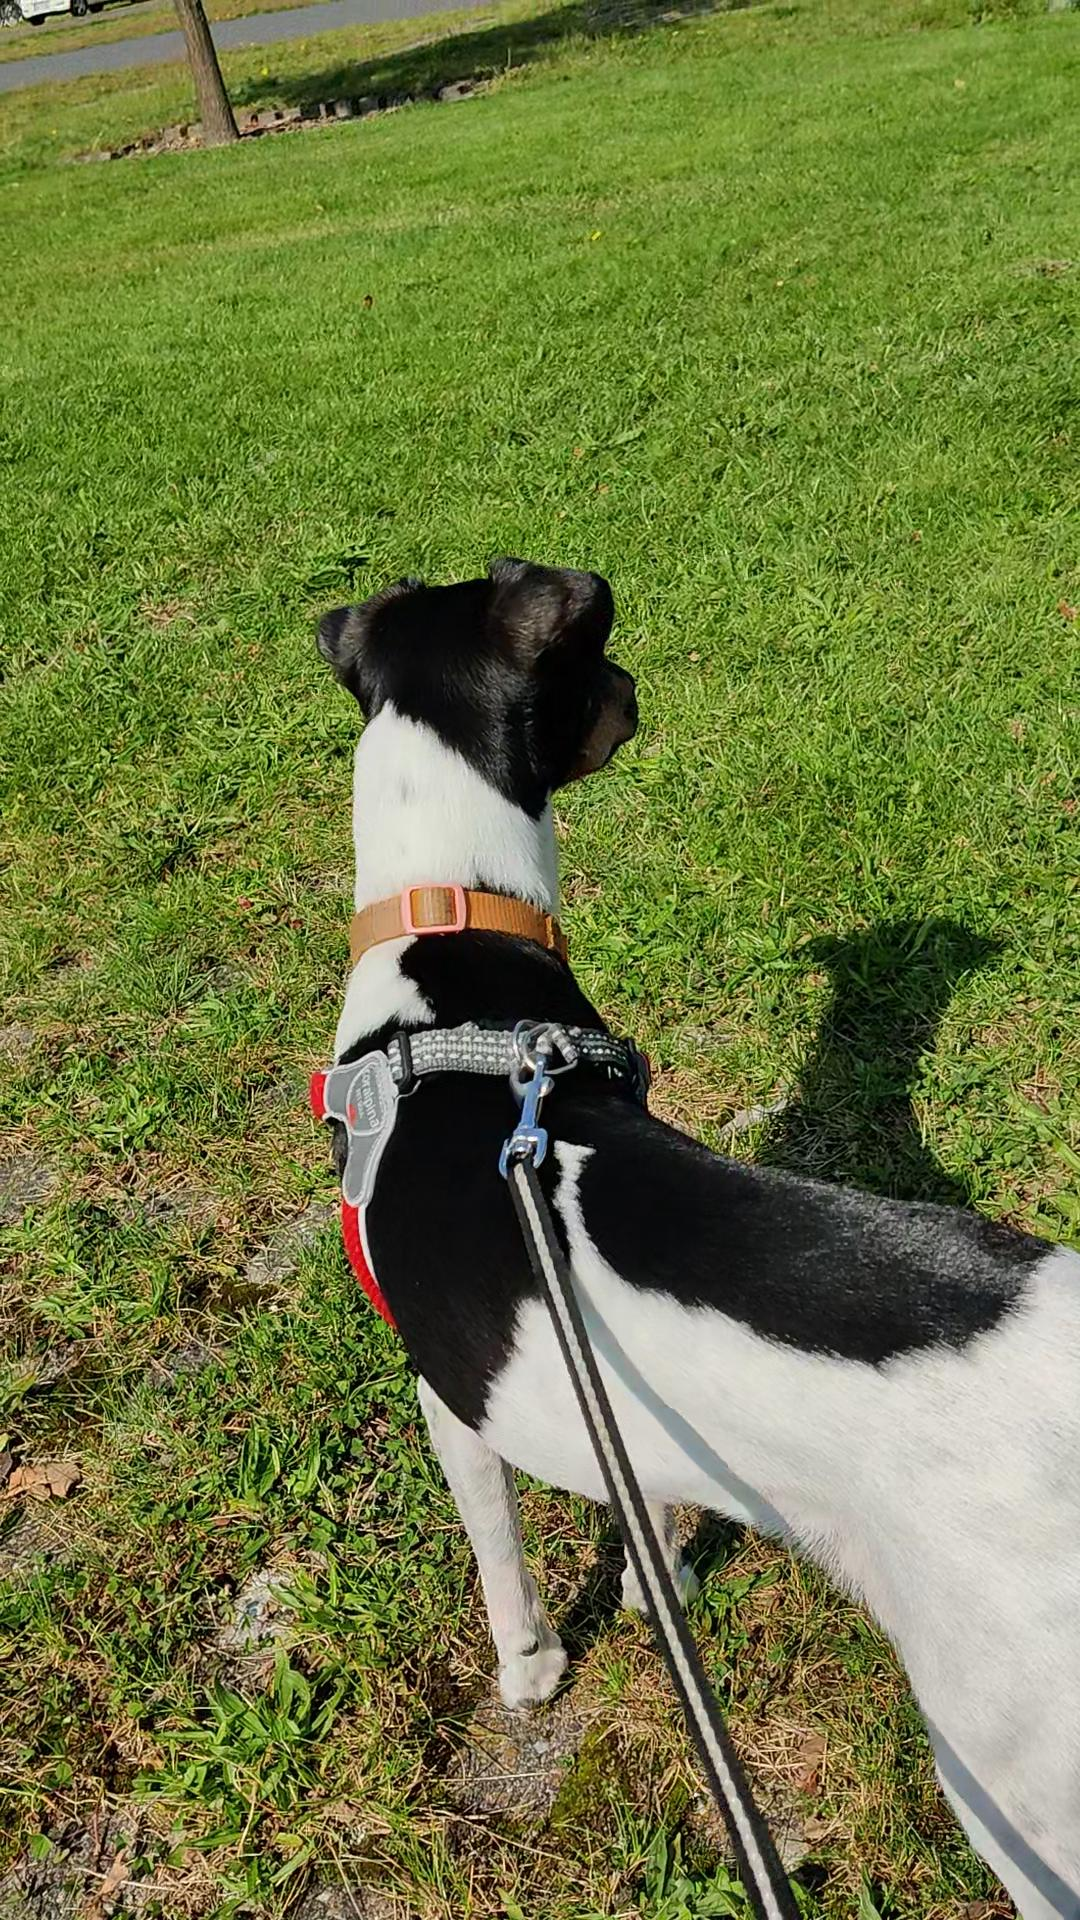Dog: (269, 516, 1079, 1919)
